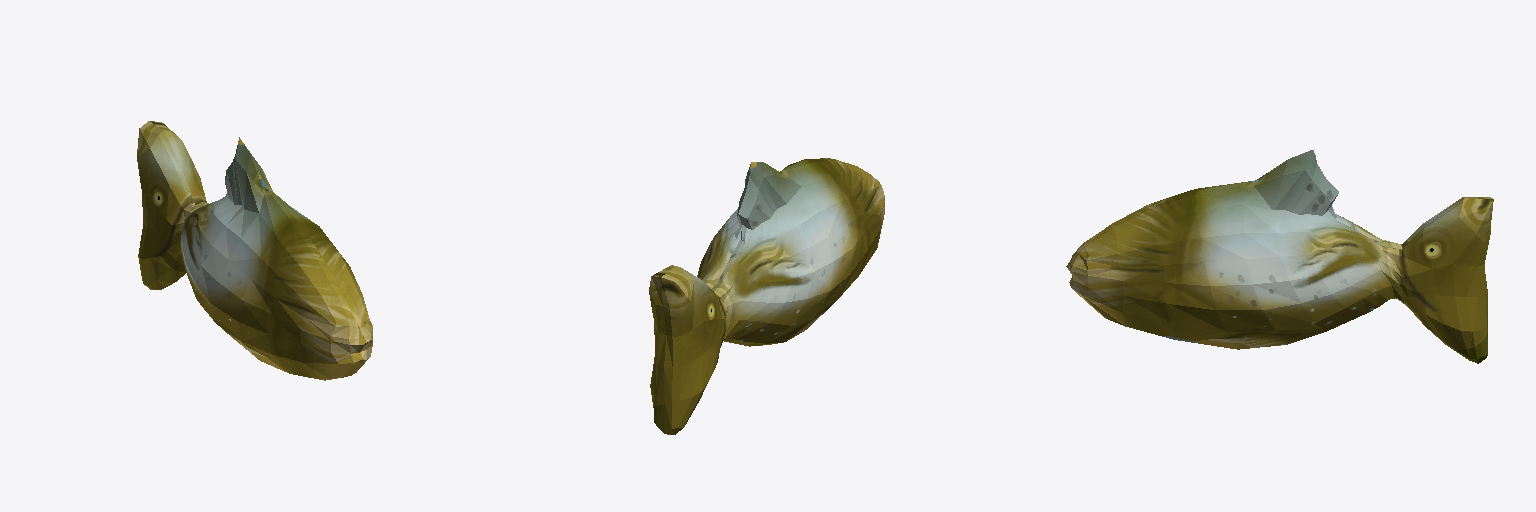
The picture shows the model from 3 angles: view 1: azimuth 30°, elevation 25°; view 2: azimuth 150°, elevation 25°; view 3: azimuth 270°, elevation 25°; orthographic projection.
Parts seen in each view (by area): view 1: g_fish_Low; view 2: g_fish_Low; view 3: g_fish_Low.
Boxes of the visible parts, x1=… form: g_fish_Low: x1=137, y1=121, x2=372, y2=380; g_fish_Low: x1=649, y1=158, x2=884, y2=434; g_fish_Low: x1=1066, y1=150, x2=1493, y2=363.
Size of the model in its own units: 0.5834 by 1.1 by 2.
1 materials, 1 textured.